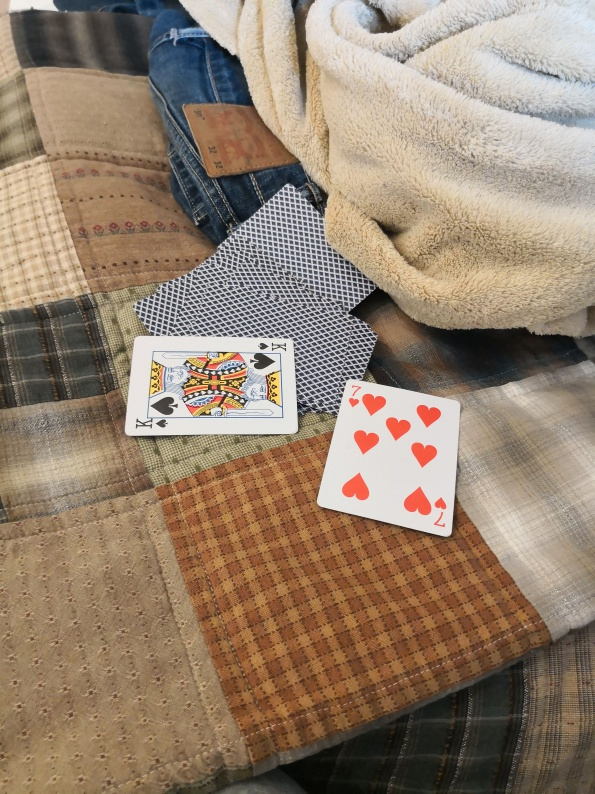7: (315, 377, 462, 538)
king: (123, 335, 299, 437)
